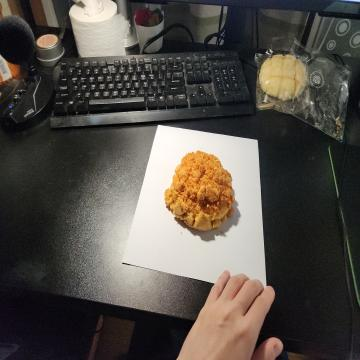soboru_bread: (164, 150, 237, 234)
